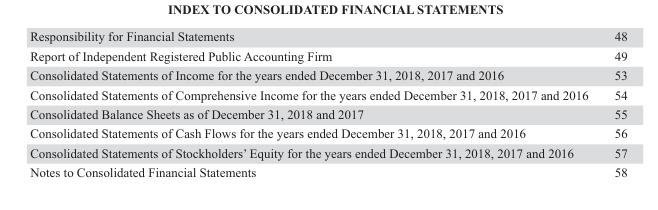table: (29, 28, 626, 178)
table column: (29, 28, 600, 178), (600, 28, 626, 178)
table row: (29, 45, 626, 65), (29, 103, 626, 123), (29, 142, 626, 162), (29, 65, 626, 84), (29, 84, 626, 103), (29, 123, 626, 142), (29, 28, 626, 45), (29, 162, 626, 178)
